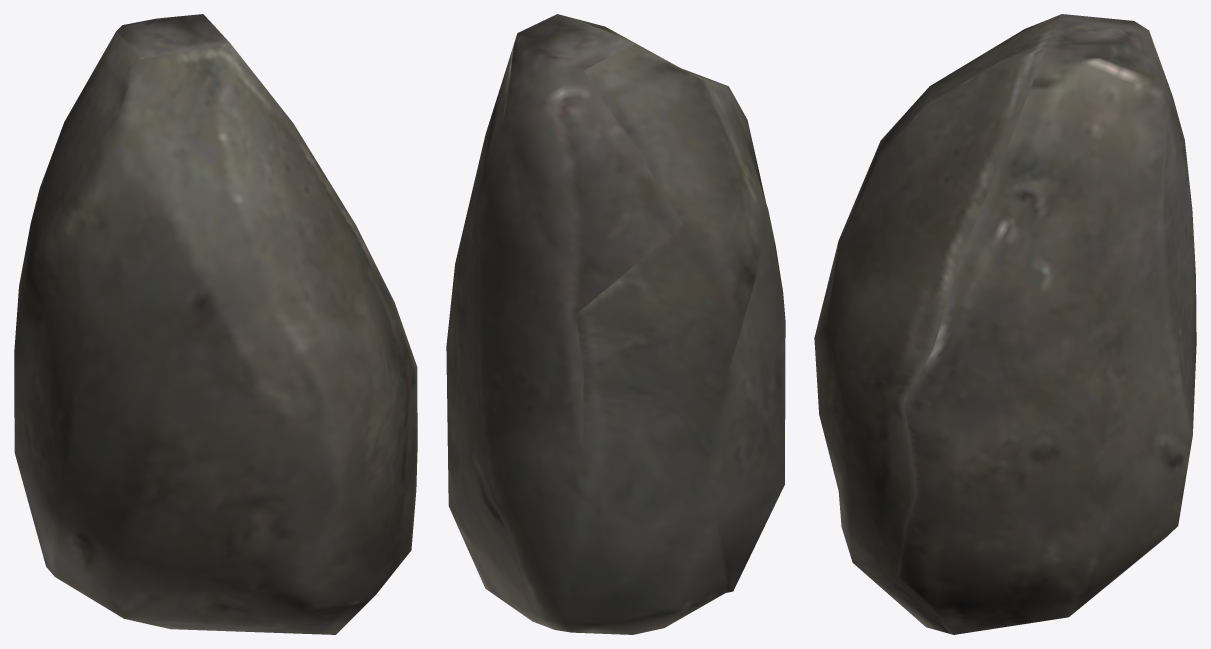
The model's file is SC_HDstone06.FBX.
3 views of the same model, side by side, from view 1: azimuth 30°, elevation 25°; view 2: azimuth 150°, elevation 25°; view 3: azimuth 270°, elevation 25° (orthographic). The views are drawn at different scales.
Parts seen in each view (by area): view 1: SC_HDstone06; view 2: SC_HDstone06; view 3: SC_HDstone06.
Part boxes in pixels (x1,y1,x2,y2): SC_HDstone06: (14, 14, 417, 634); SC_HDstone06: (446, 14, 785, 634); SC_HDstone06: (814, 14, 1196, 634).
Size of the model in its own units: 1.29 by 2.2 by 1.34.
